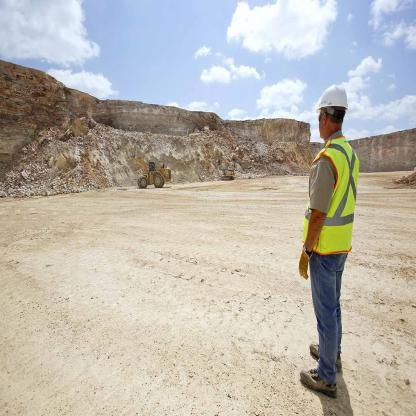bull_dozer/loader/grader: (129, 145, 174, 194)
person: (290, 78, 358, 406)
